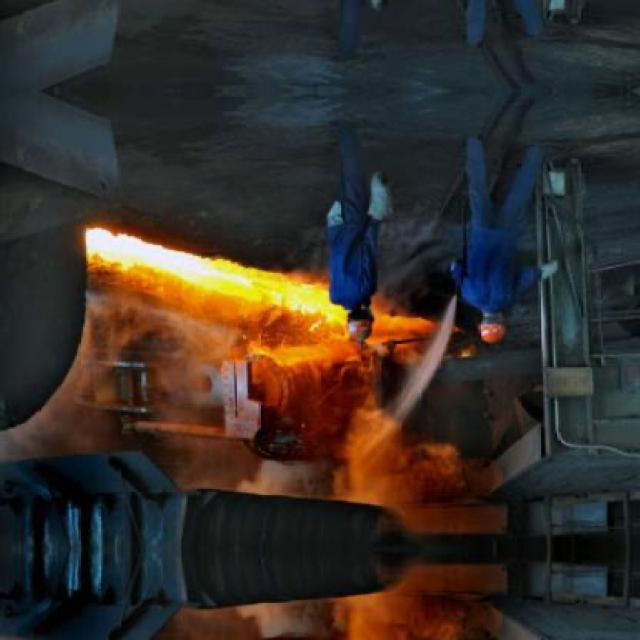con casco: (472, 299, 521, 352), (339, 308, 392, 348)
